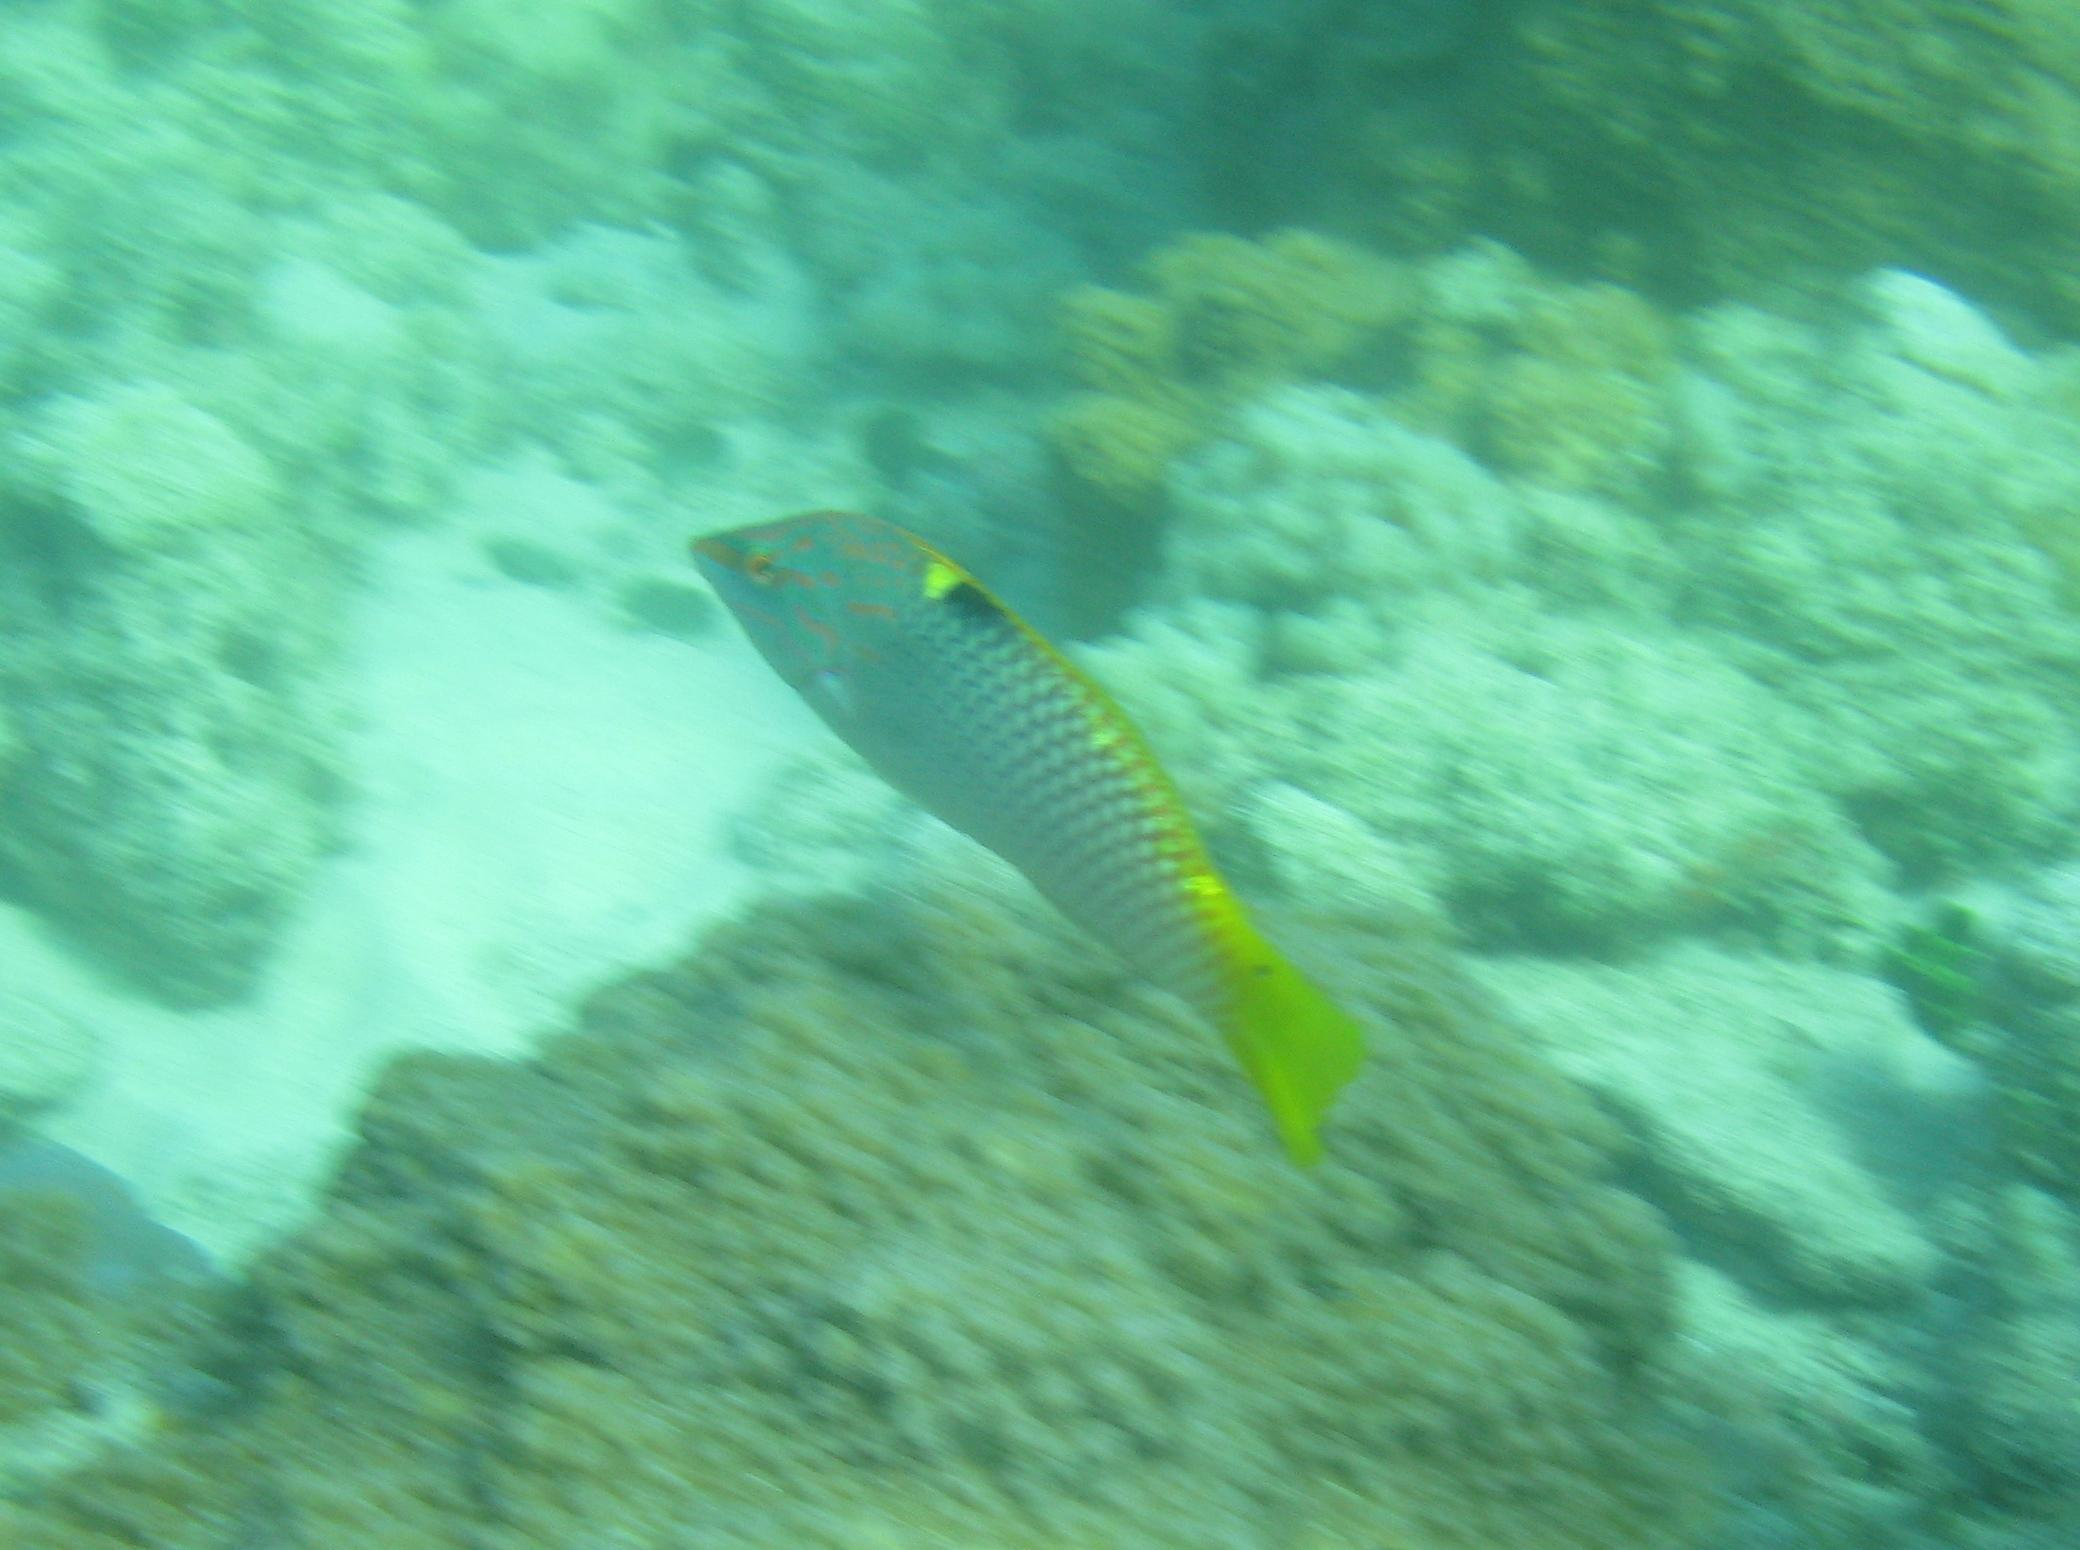Halichoeres hortulanus: (672, 493, 1408, 1192)
